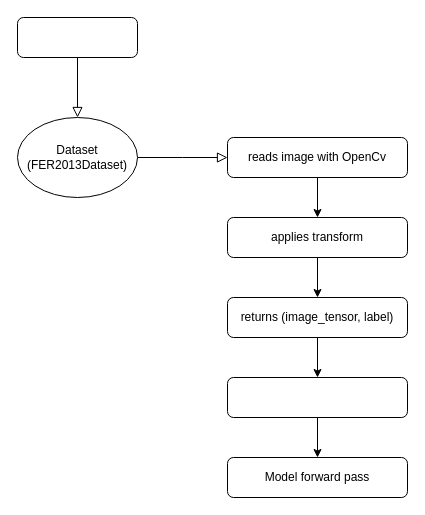
Some shapes in this 425 by 515 pixel diagram are drawn without their labels. The shapes that lost their labels are listed below. From the top down, each one's centre as x and y in pixels, then its label:
At pixel 77 37: "Filesystem".
At pixel 317 397: "Data Loader batches".
